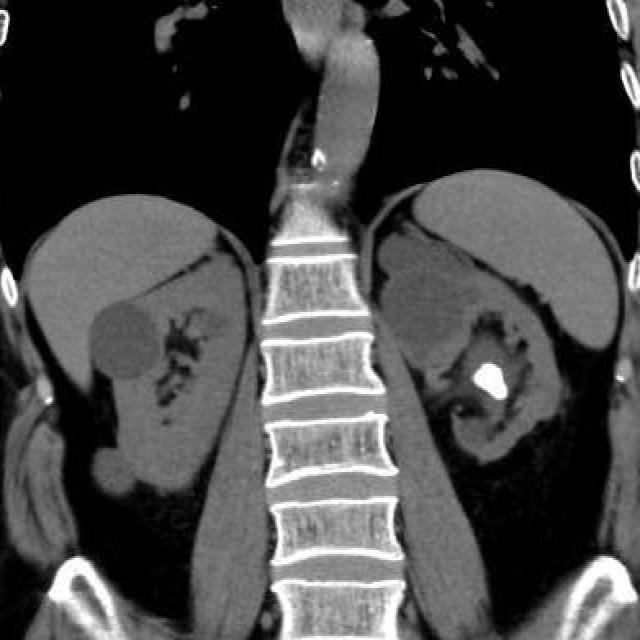Tas_Var: (466, 357, 516, 405)
